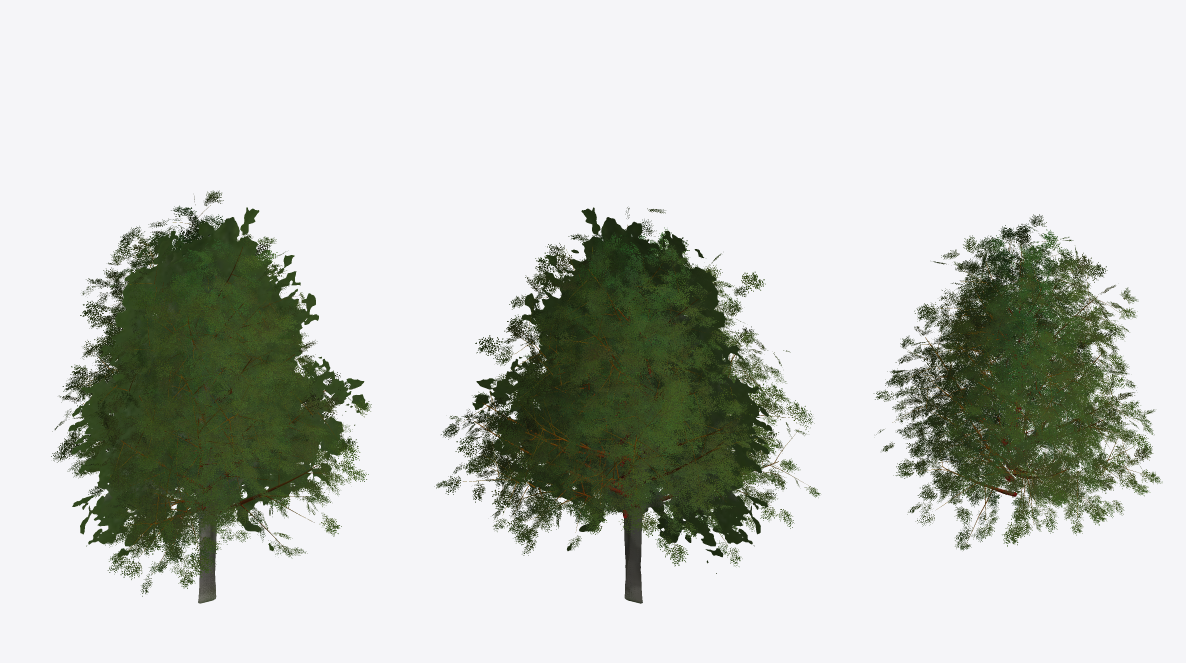
Rendered from buna.glb.
3 views of the same model, side by side, from view 1: azimuth 30°, elevation 25°; view 2: azimuth 150°, elevation 25°; view 3: azimuth 270°, elevation 25° (orthographic). The views are drawn at different scales.
Parts seen in each view (by area): view 1: v1_lod0, v0_lod0, v2_lod0, v0_imp, v1_imp, v2_imp; view 2: v0_lod0, v1_lod0, v2_lod0, v1_imp, v0_imp, v2_imp; view 3: v2_lod0, v0_lod0, v1_lod0.
Part boxes in pixels (x1,y1,x2,y2): v1_lod0: (57,215,331,596); v0_lod0: (51,190,371,577); v2_lod0: (61,229,368,558); v0_imp: (74,207,367,602); v1_imp: (68,224,318,601); v2_imp: (71,255,364,603); v0_lod0: (441,207,800,566); v1_lod0: (475,233,820,566); v2_lod0: (434,238,807,555); v1_imp: (521,223,772,602); v0_imp: (472,207,766,602); v2_imp: (476,255,769,603); v2_lod0: (893,257,1162,550); v0_lod0: (873,223,1154,546); v1_lod0: (885,214,1154,501).
Size of what is drawn, in the model's own units: 19.33 by 26.09 by 15.09.
Materials: 2 (2 with a texture image).
